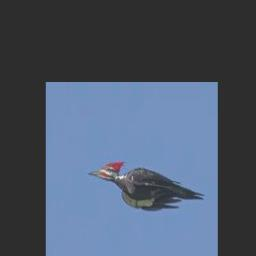Woodpecker: (88, 161, 205, 210)
